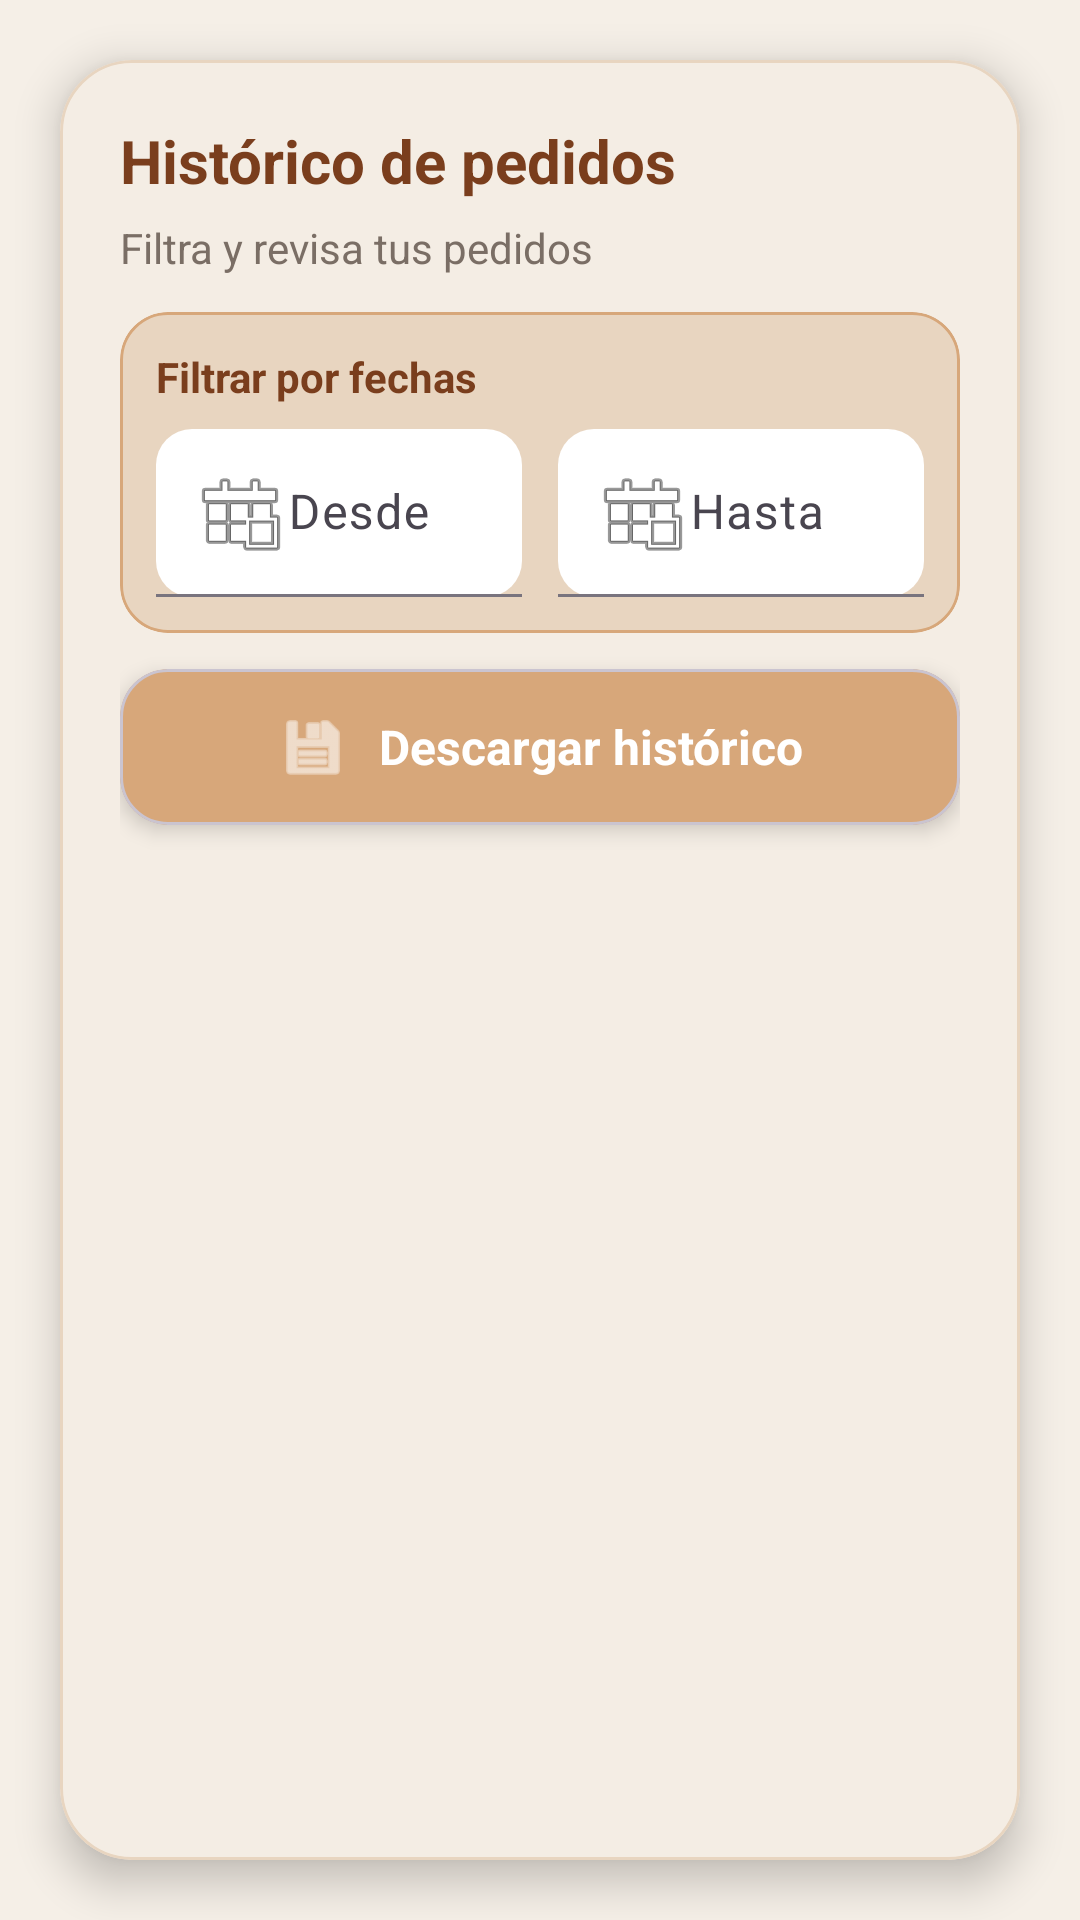

Named icons in this screenshot (1080px x 1920px) and their centers, (x=x, y=y):
save: (x=313, y=747)
